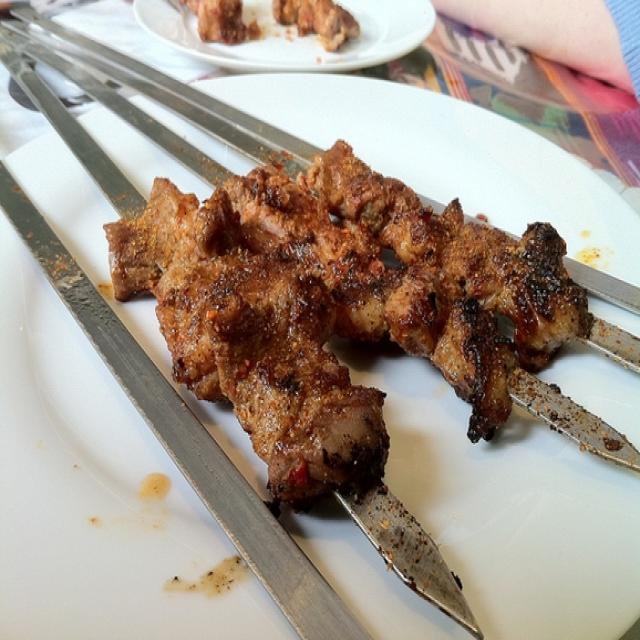烧串烤肉: (82, 121, 603, 522)
